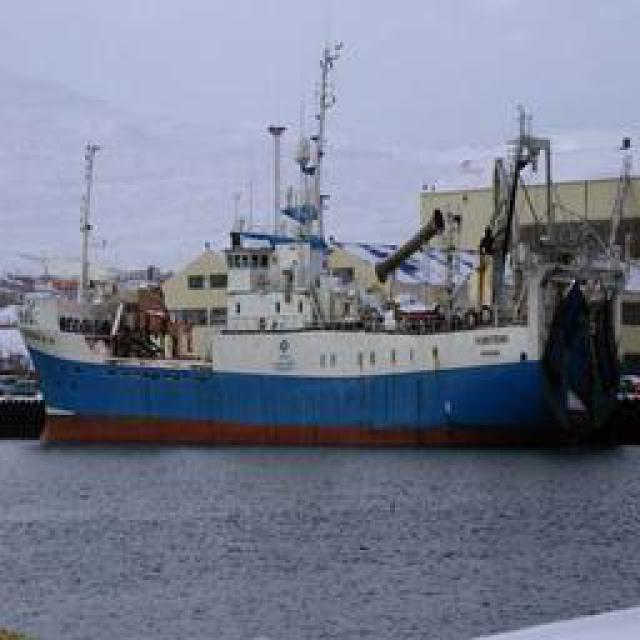Ship: (15, 40, 633, 443)
